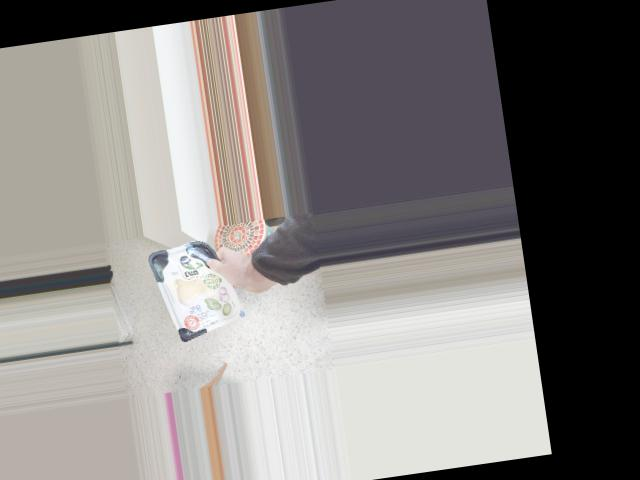cheese: (146, 234, 246, 340)
